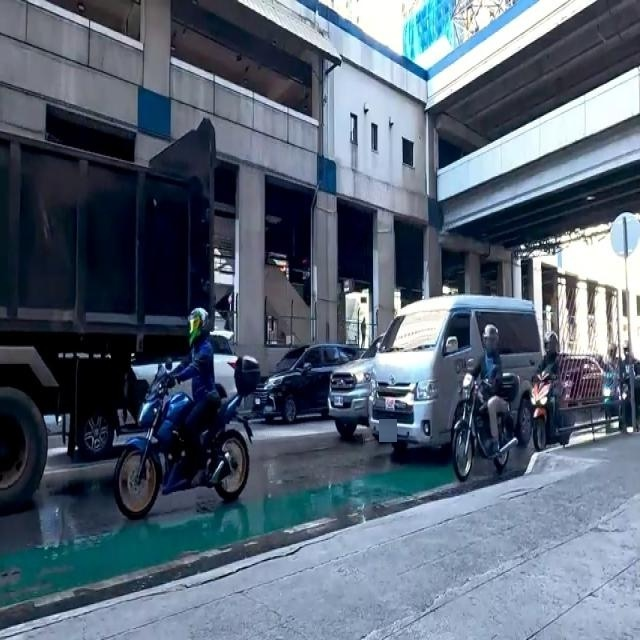car: (372, 298, 542, 452), (255, 342, 342, 420), (327, 348, 373, 433)
motorcycle: (117, 313, 242, 518), (455, 343, 508, 469), (530, 344, 568, 446), (618, 340, 638, 432), (600, 340, 620, 424)
truck: (0, 132, 207, 502)
